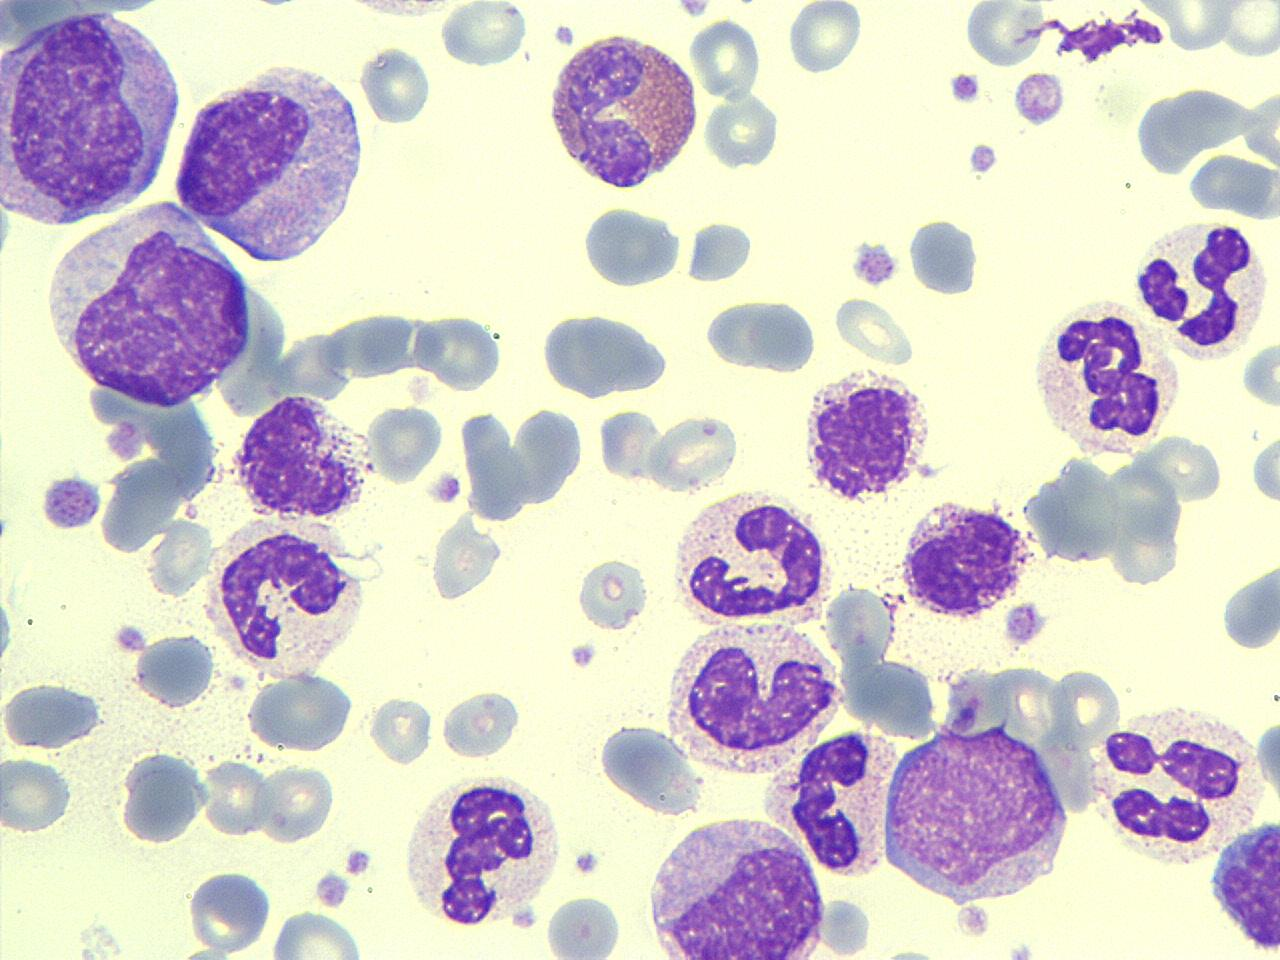Platelets: (906, 216, 980, 299), (1217, 560, 1279, 656), (684, 217, 754, 285), (37, 470, 104, 532), (1010, 70, 1068, 127), (848, 238, 900, 291), (1248, 430, 1280, 513), (1000, 600, 1049, 648), (313, 868, 352, 910), (428, 469, 466, 506), (111, 620, 149, 656), (946, 70, 982, 105), (966, 140, 1000, 177), (880, 940, 940, 960), (343, 844, 373, 879), (567, 639, 599, 671), (571, 847, 602, 878), (510, 904, 542, 932), (670, 0, 712, 21), (1006, 939, 1034, 960)
RBC: (1020, 450, 1126, 569), (1102, 454, 1186, 586), (600, 721, 704, 817), (244, 668, 358, 755), (578, 199, 684, 292), (700, 294, 818, 375), (184, 866, 275, 954), (414, 310, 505, 394), (648, 410, 738, 494), (318, 306, 416, 383), (428, 508, 502, 605), (1048, 666, 1124, 758), (701, 87, 781, 173), (822, 582, 898, 672), (258, 760, 336, 846), (358, 40, 434, 128), (438, 685, 525, 761), (688, 14, 763, 102), (858, 658, 940, 737), (574, 552, 652, 634), (1185, 151, 1279, 219), (830, 293, 916, 366), (436, 2, 531, 68), (367, 401, 442, 484), (784, 1, 862, 78), (0, 754, 73, 836), (542, 890, 624, 960), (962, 1, 1045, 69), (596, 405, 664, 485), (204, 758, 270, 840), (268, 907, 368, 959), (1145, 0, 1237, 55), (367, 692, 432, 768), (684, 217, 752, 286), (1212, 0, 1280, 60), (1011, 69, 1065, 128), (1252, 704, 1280, 816), (1239, 338, 1279, 415), (1249, 427, 1279, 517)
WBC: (42, 197, 255, 416), (171, 50, 376, 264), (0, 1, 188, 232), (877, 718, 1078, 918), (1088, 698, 1266, 872), (663, 614, 845, 780), (397, 764, 566, 934), (642, 810, 828, 960), (544, 26, 702, 194), (209, 515, 369, 678), (1028, 292, 1180, 462), (668, 485, 830, 627), (1131, 213, 1275, 366), (800, 363, 937, 506), (228, 392, 372, 525), (450, 396, 588, 532), (782, 725, 902, 881), (898, 492, 1039, 622), (536, 306, 673, 406), (1020, 451, 1125, 570), (1206, 810, 1280, 955), (594, 717, 700, 817), (243, 669, 359, 756), (702, 294, 820, 377), (117, 746, 209, 846), (580, 200, 680, 291), (0, 679, 107, 751), (132, 631, 216, 710), (1220, 557, 1280, 656)
